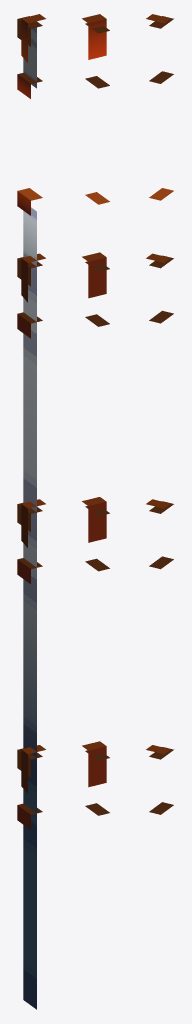
3 renders of one model, left to right at view 1: azimuth 30°, elevation 25°; view 2: azimuth 210°, elevation 25°; view 3: azimuth 330°, elevation 25°, orthographic.
Bounding box in the file's own units: 0.7891 × 40.25 × 1.
2 materials, 2 textured.
